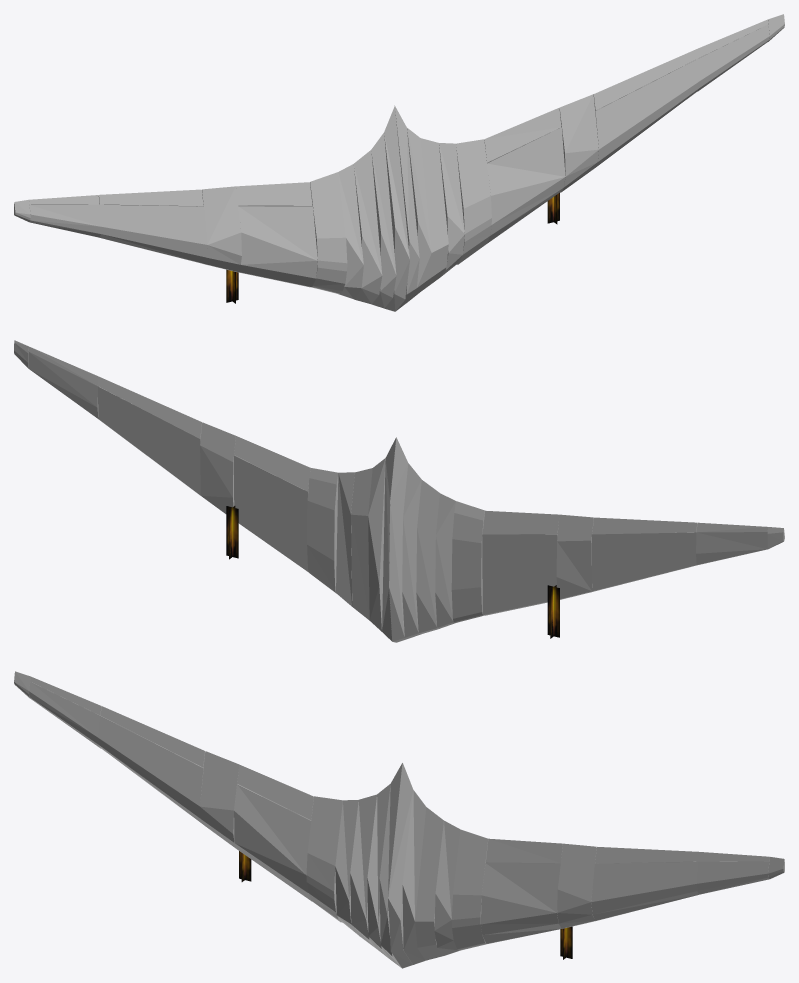
Rendered from Horton18Boned_wtf.obj.
The picture shows the model from 3 angles, top to bottom: view 1: azimuth 30°, elevation 25°; view 2: azimuth 150°, elevation 25°; view 3: azimuth 330°, elevation 25°; orthographic projection.
Visible parts, largest first — view 1: group1, group16, group4, group11, group26, group17, group3, group24, group22, group12, group19, group23 (+13 smaller); view 2: group1, group16, group4, group11, group26, group17, group24, group3, group22, group12, group19, group23 (+13 smaller); view 3: group16, group1, group11, group4, group17, group26, group12, group19, group3, group21, group20, group24 (+13 smaller).
Boxes of the visible parts, box(x1,y1,x2,y2) form: group1: box(237, 206, 317, 287); group16: box(487, 127, 565, 243); group4: box(99, 204, 207, 263); group11: box(595, 59, 700, 167); group26: box(310, 172, 347, 293); group17: box(456, 139, 491, 264); group3: box(202, 186, 241, 271); group24: box(353, 150, 382, 304); group22: box(384, 106, 409, 311); group12: box(559, 94, 598, 192); group19: box(420, 138, 448, 291); group23: box(371, 133, 396, 308); group1: box(482, 534, 557, 615); group16: box(234, 455, 308, 571); group4: box(591, 532, 696, 591); group11: box(98, 386, 200, 495); group26: box(451, 501, 484, 623); group17: box(307, 468, 338, 593); group24: box(416, 480, 439, 633); group3: box(556, 514, 593, 599); group22: box(389, 437, 408, 642); group12: box(200, 422, 235, 513); group19: box(351, 468, 372, 620); group23: box(402, 463, 421, 638); group16: box(481, 863, 561, 943); group1: box(234, 784, 311, 901); group11: box(591, 861, 698, 920); group4: box(98, 716, 203, 824); group17: box(451, 829, 488, 950); group26: box(306, 796, 342, 922); group12: box(557, 843, 596, 928); group19: box(415, 807, 443, 960); group3: box(200, 751, 239, 849); group21: box(388, 763, 413, 968); group20: box(402, 790, 426, 964); group24: box(350, 794, 376, 948).
Bounding box in the file's own units: 660 × 169 × 33.09.
